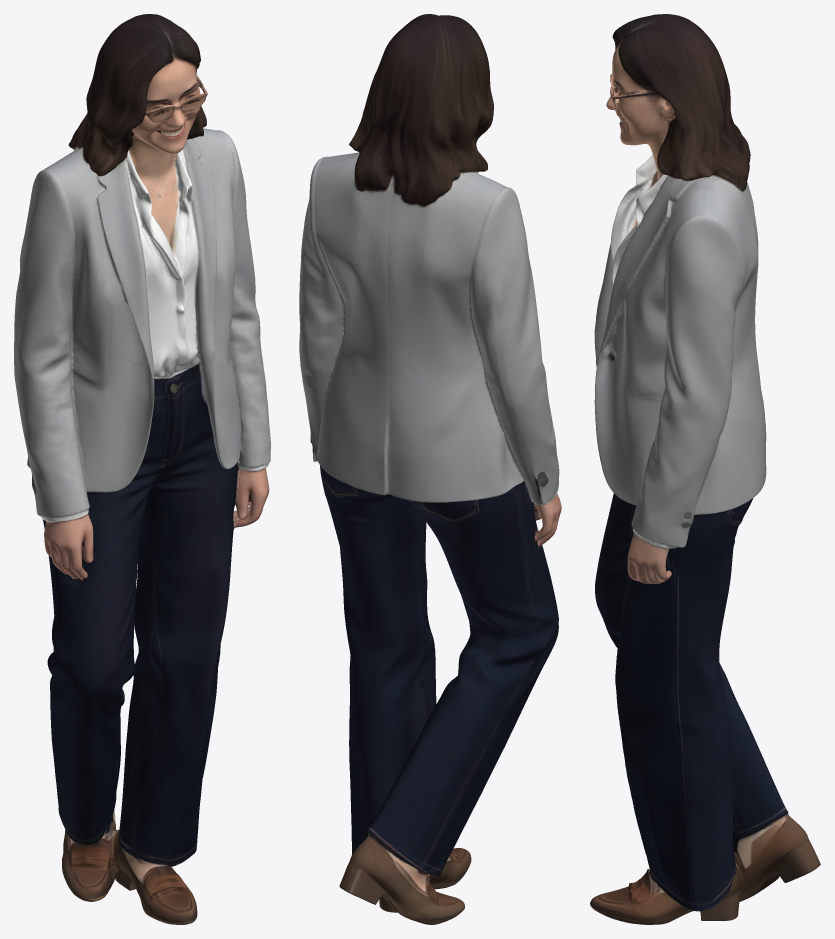
The model's file is person-grey-blazer.glb.
The picture shows the model from 3 angles, left to right: view 1: azimuth 30°, elevation 25°; view 2: azimuth 150°, elevation 25°; view 3: azimuth 270°, elevation 25°; orthographic projection. The views are drawn at different scales.
Parts seen in each view (by area): view 1: mesh_0; view 2: mesh_0; view 3: mesh_0.
Part boxes in pixels (left/top/right/bottom): mesh_0: left=14, top=14, right=270, bottom=924; mesh_0: left=299, top=14, right=561, bottom=924; mesh_0: left=590, top=14, right=820, bottom=924.
Size of the model in its own units: 0.5367 by 1.9 by 0.4443.
1 material, 1 textured.
